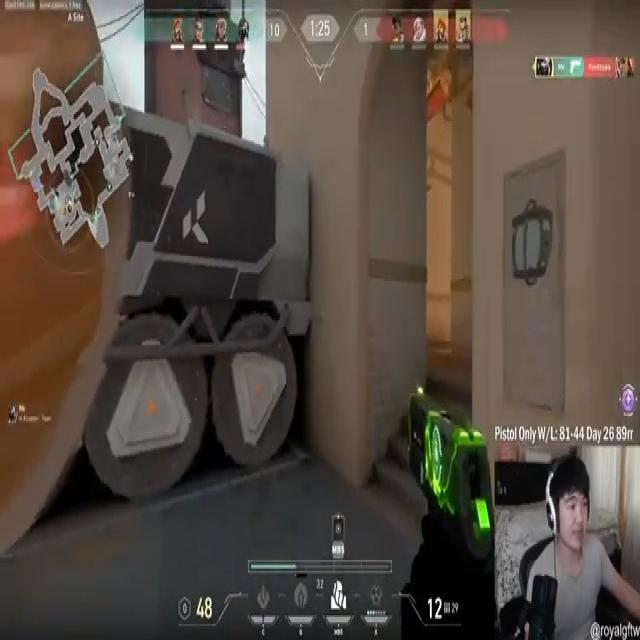smoke: (0, 0, 114, 552)
